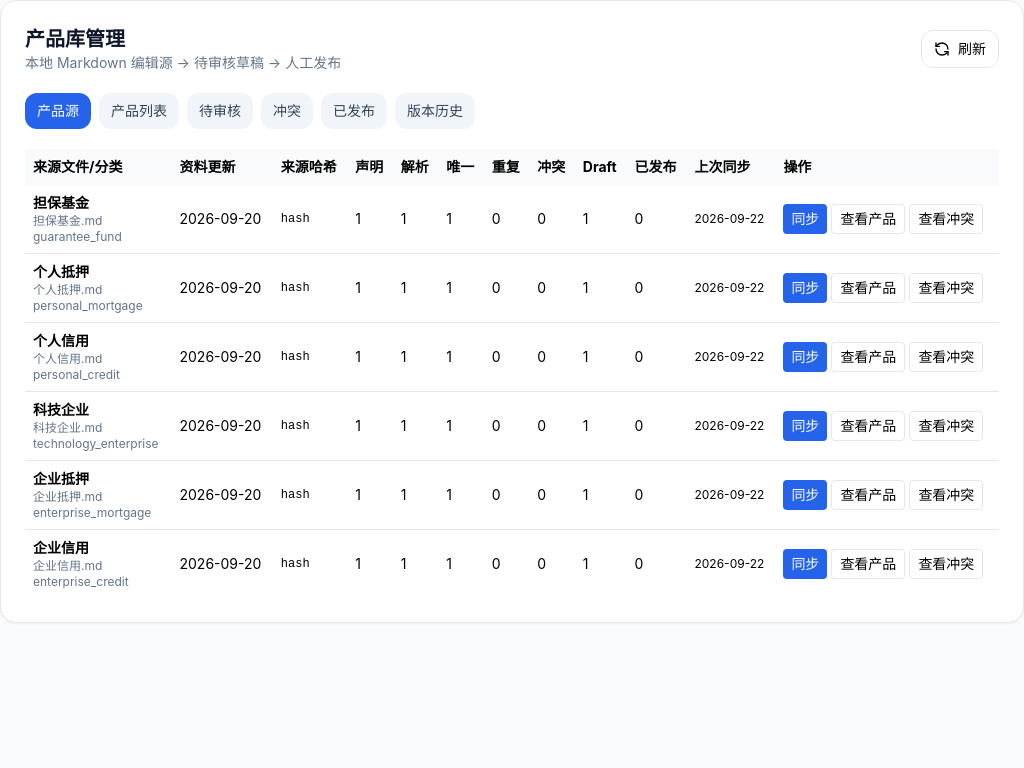
Test: LocalProductCatalogSection › syncs drafts from a source without publishing
Expected: the text "担保基金" is shown, [33,194,89,211]
Click the button "同步" in the row of "担保基金.md" at (805, 219), box [783,204,827,234]
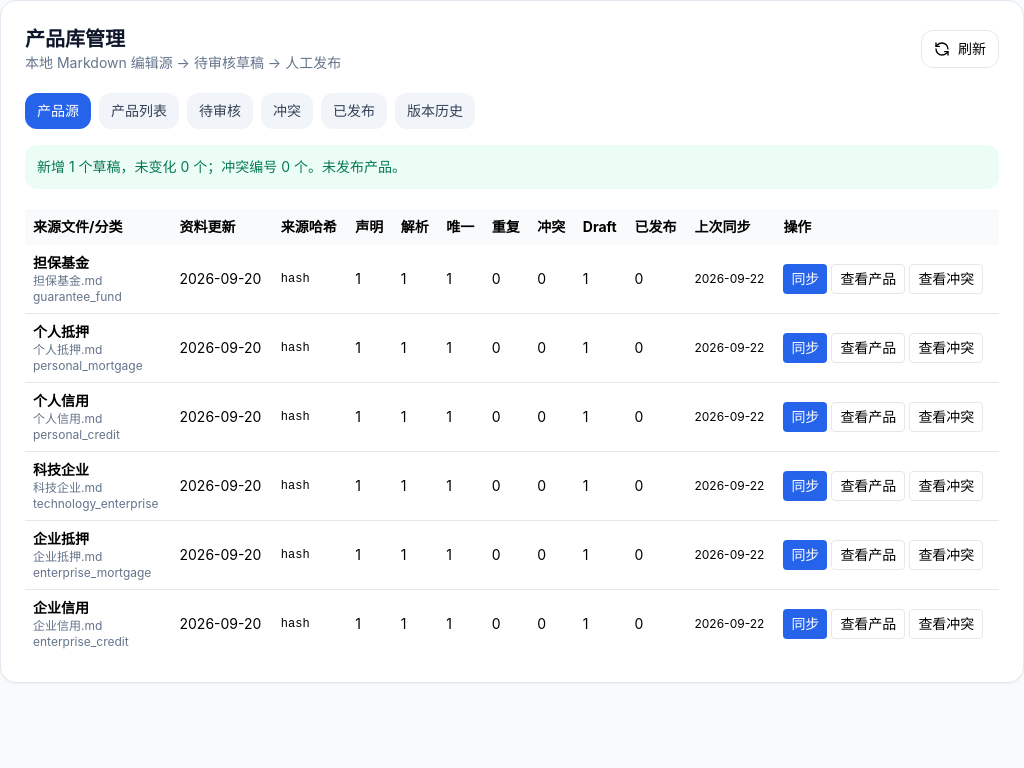
Result: the text "新增 1 个草稿，未变化 0 个；冲突编号 0 个。未发布产品。" is shown at [25,145,999,189]
